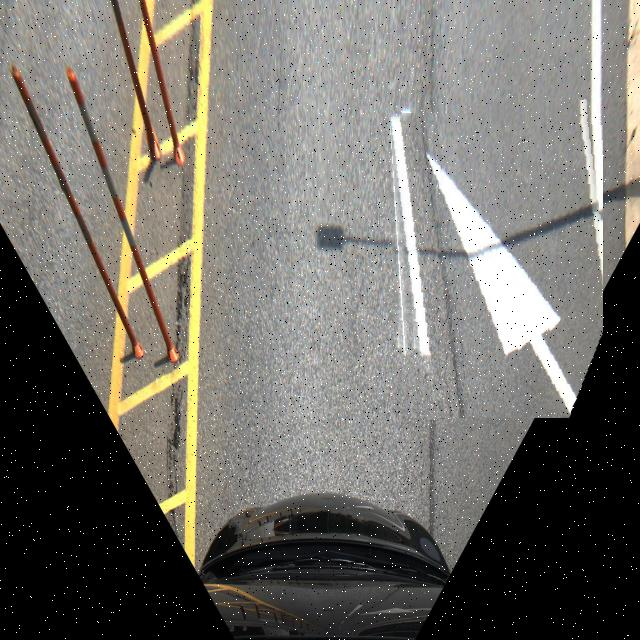chang_lane_left: (389, 103, 603, 418)
